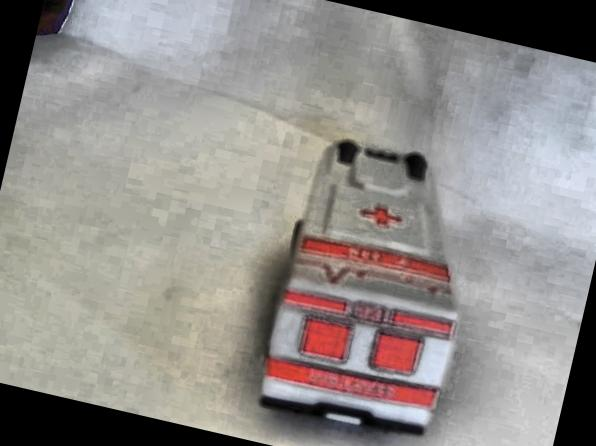ambulance: (251, 129, 492, 445)
